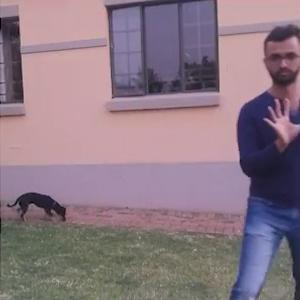follow_hand: (254, 93, 299, 144)
